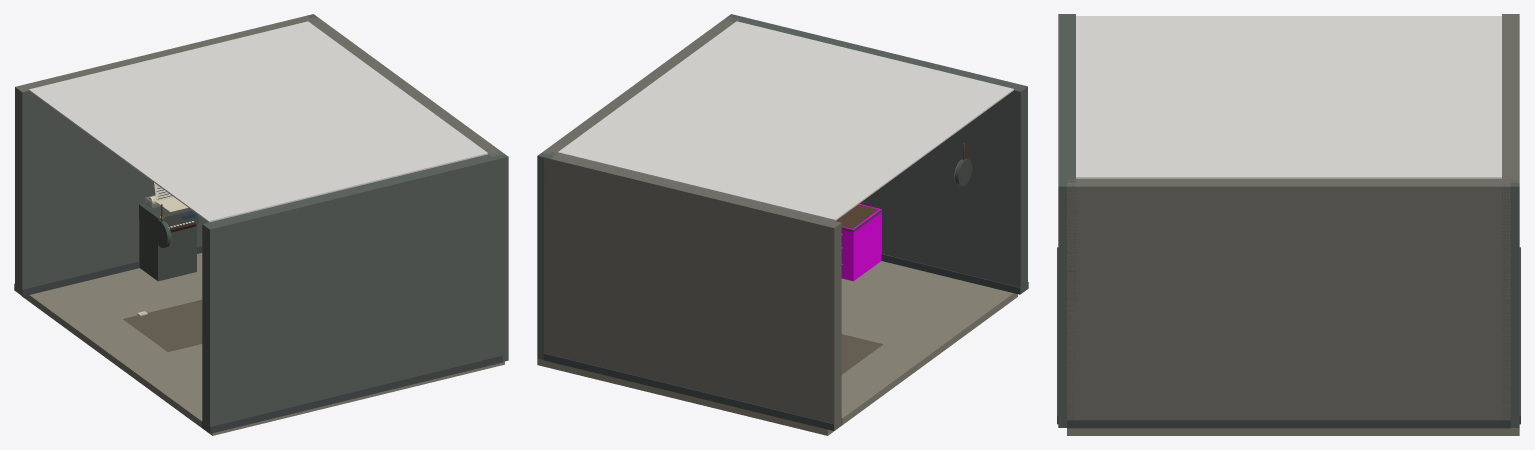
Rendered from ENV_W0_InstrumentRoom.glb.
3 renders of one model, left to right at view 1: azimuth 30°, elevation 25°; view 2: azimuth 150°, elevation 25°; view 3: azimuth 270°, elevation 25°, orthographic. The views are drawn at different scales.
Parts seen in each view (by area): view 1: ENV_W0_InstrumentRoom_Architecture, ENV_W0_InstrumentRoom_Ceiling, PROP_Teleprinter_Historic_Mesh, ENV_W0_InstrumentRoom_Decay, ENV_W0_InstrumentRoom_Posts, IR_Teleprinter_Sheet_Printed; view 2: ENV_W0_InstrumentRoom_Architecture, ENV_W0_InstrumentRoom_Ceiling, PROP_Desk_Steel_Tanker_COL-colonly.001, ENV_W0_InstrumentRoom_Posts, ENV_W0_InstrumentRoom_Decay, PROP_Desk_Steel_Tanker_Mesh.001; view 3: ENV_W0_InstrumentRoom_Architecture, ENV_W0_InstrumentRoom_Ceiling, ENV_W0_InstrumentRoom_Posts.
Part boxes in pixels (box(x1,y1,x2,y2)): ENV_W0_InstrumentRoom_Architecture: box(14, 15, 504, 435); ENV_W0_InstrumentRoom_Ceiling: box(29, 21, 487, 222); PROP_Teleprinter_Historic_Mesh: box(139, 195, 198, 281); ENV_W0_InstrumentRoom_Decay: box(123, 299, 202, 351); ENV_W0_InstrumentRoom_Posts: box(302, 14, 508, 361); IR_Teleprinter_Sheet_Printed: box(152, 182, 188, 211); ENV_W0_InstrumentRoom_Architecture: box(537, 16, 1028, 435); ENV_W0_InstrumentRoom_Ceiling: box(558, 21, 1013, 220); PROP_Desk_Steel_Tanker_COL-colonly.001: box(841, 204, 881, 281); ENV_W0_InstrumentRoom_Posts: box(537, 14, 742, 359); ENV_W0_InstrumentRoom_Decay: box(841, 334, 882, 374); PROP_Desk_Steel_Tanker_Mesh.001: box(835, 204, 881, 264); ENV_W0_InstrumentRoom_Architecture: box(1057, 14, 1520, 435); ENV_W0_InstrumentRoom_Ceiling: box(1076, 16, 1501, 178); ENV_W0_InstrumentRoom_Posts: box(1058, 179, 1519, 427).
Size of what is drawn, in the model's own units: 4.61 by 3.12 by 5.22.
